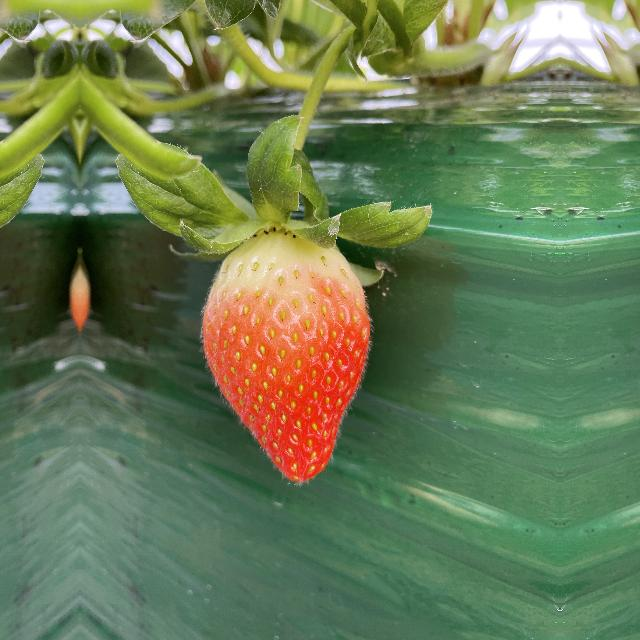Health_100: (197, 218, 379, 508)
